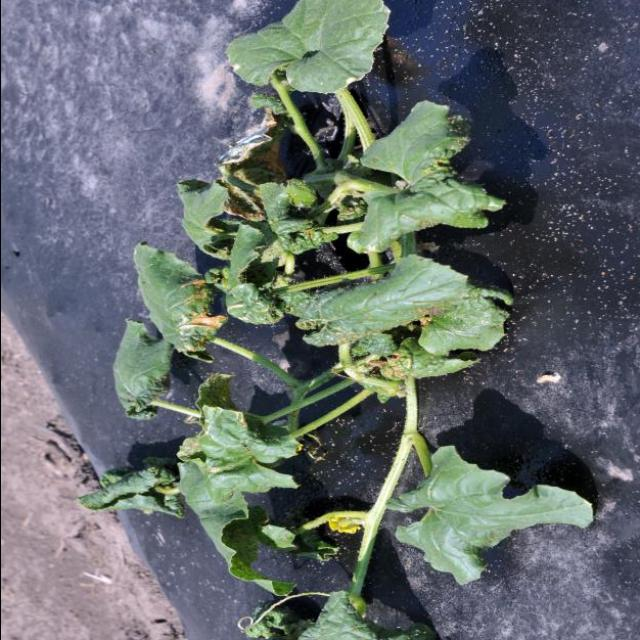Aphids: (159, 389, 322, 600), (204, 132, 340, 330), (331, 254, 524, 380), (99, 220, 250, 366), (229, 589, 441, 640), (416, 117, 496, 235), (100, 319, 182, 421), (76, 456, 172, 528)
